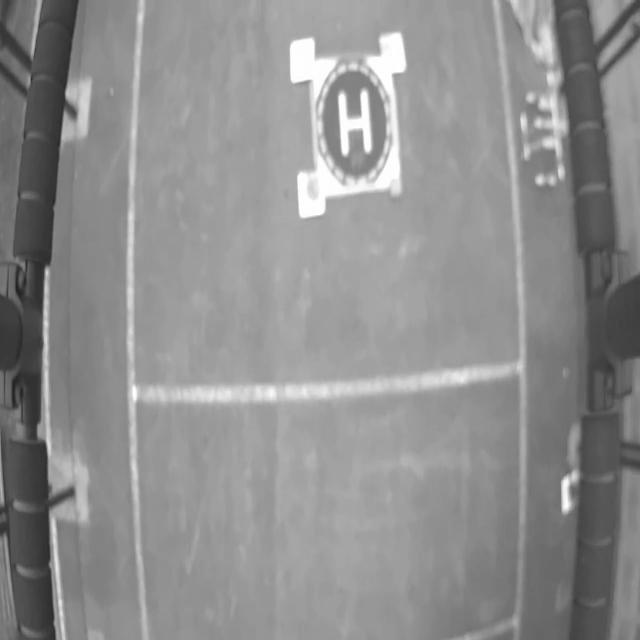Helipad: (338, 89, 374, 159)
